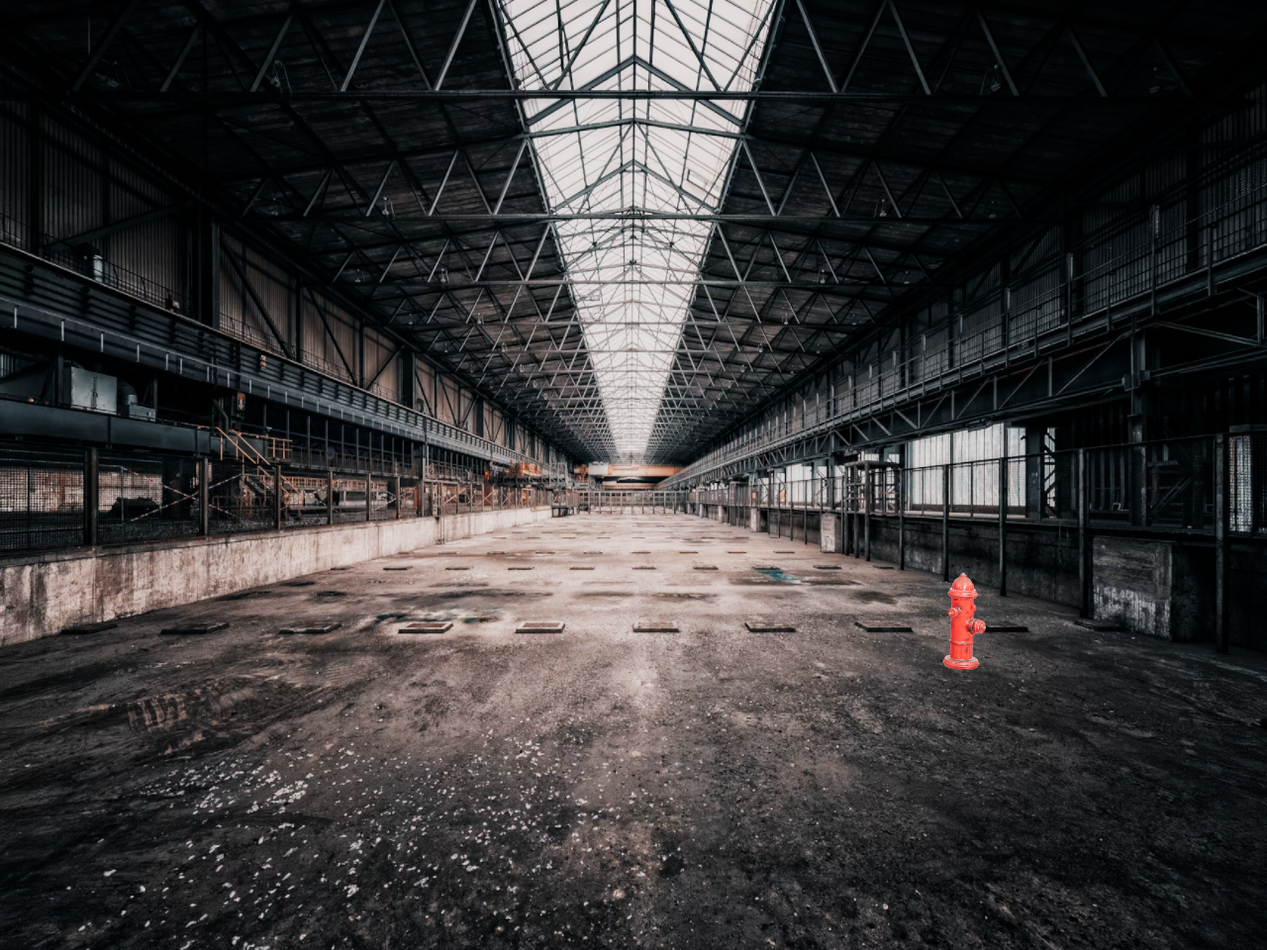ShirAtashNeshani: (943, 573, 986, 670)
